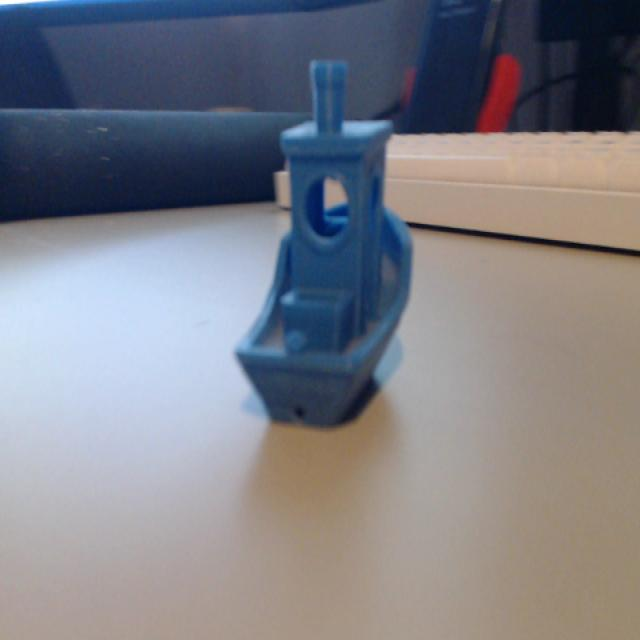benchy: (231, 55, 416, 429)
